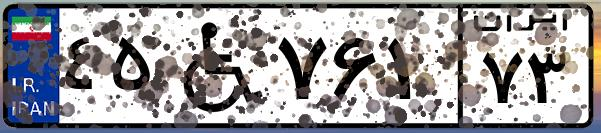1: (385, 28, 445, 110)
3: (525, 38, 570, 115)
4: (57, 26, 110, 100)
5: (110, 28, 158, 98)
6: (330, 28, 385, 110)
7: (270, 28, 330, 110), (475, 38, 525, 113)
ژ (معلولین و جانبازان): (158, 12, 270, 120)
